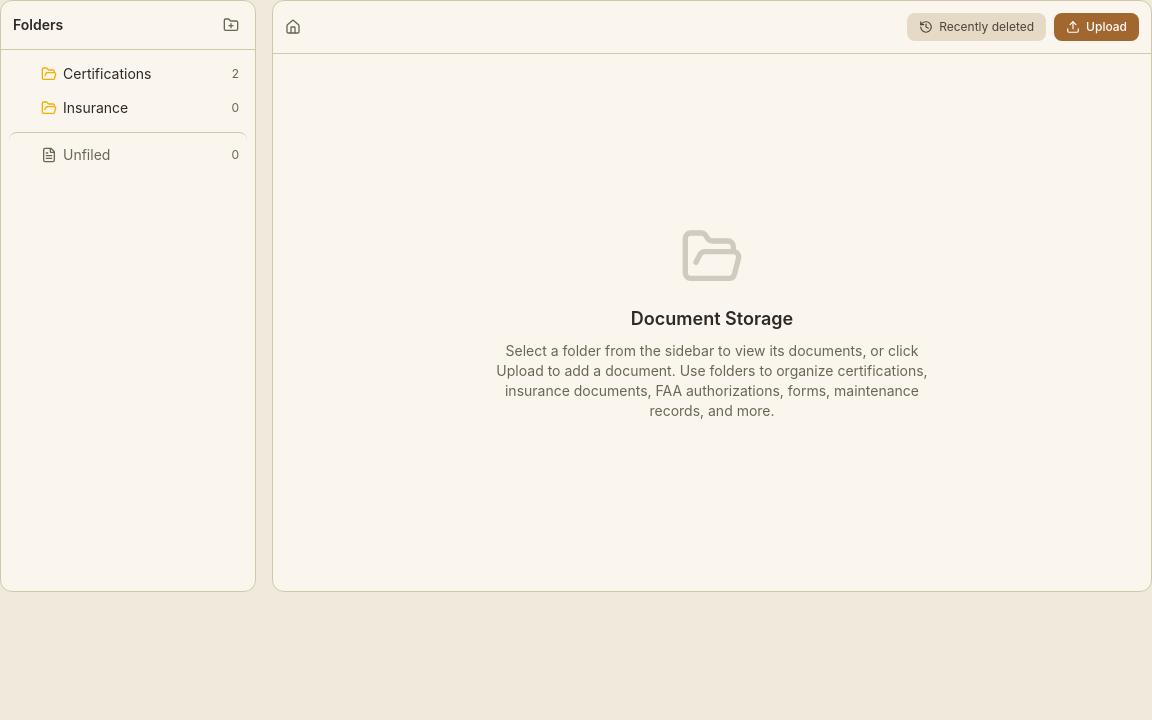
DocumentStoragePage › moves a document to Recently deleted from its row
Click the text "Certifications": (107, 74) [63,65,152,82]
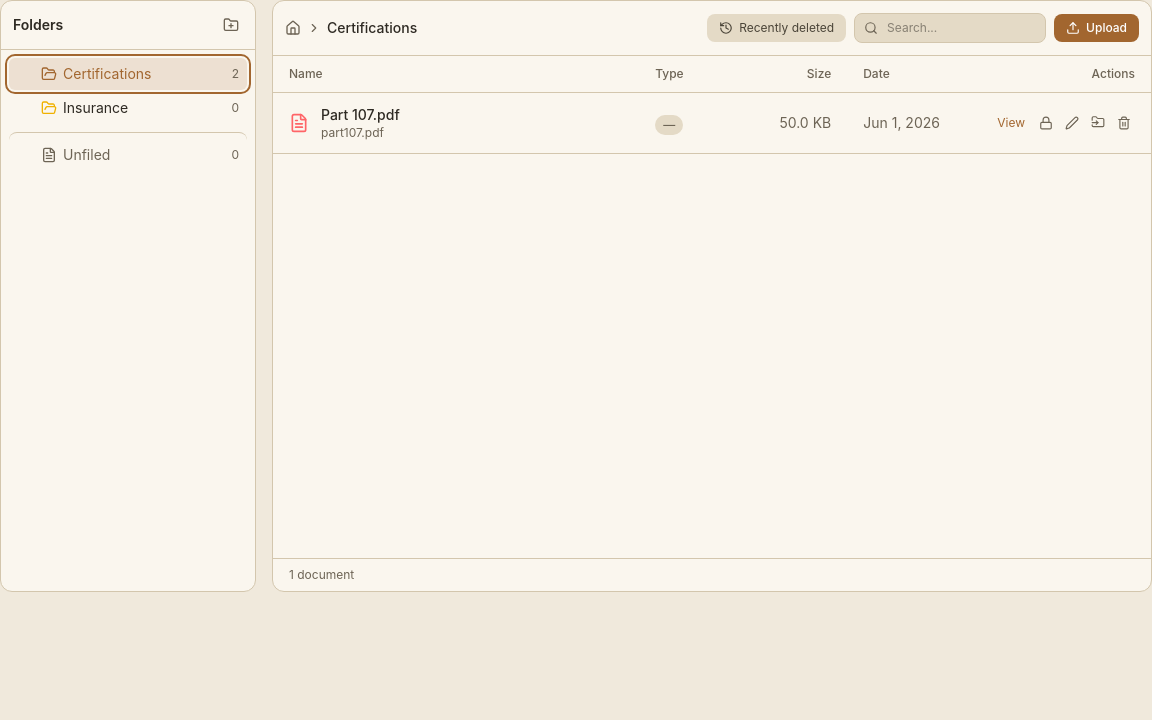
Expected: the text "Part 107.pdf" is shown, [321,105,400,125]
Click the button named "Delete": (1124, 123) [1113,112,1135,134]
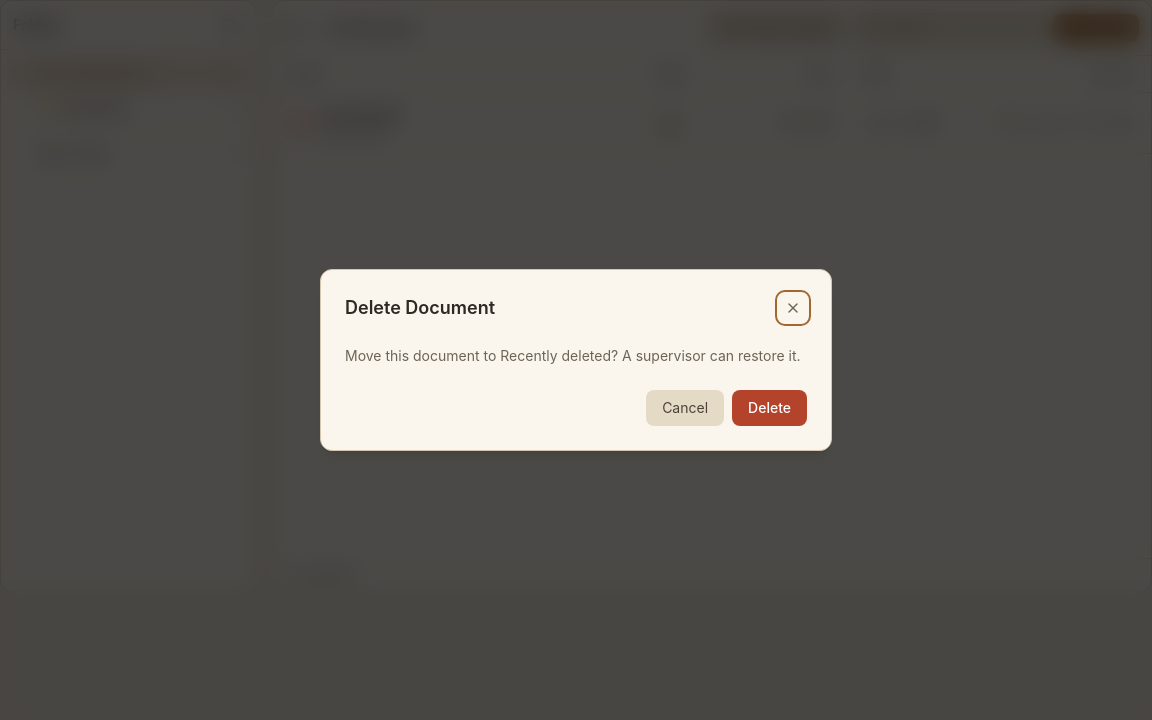
Click the button "Delete": (770, 408) [732,390,807,426]
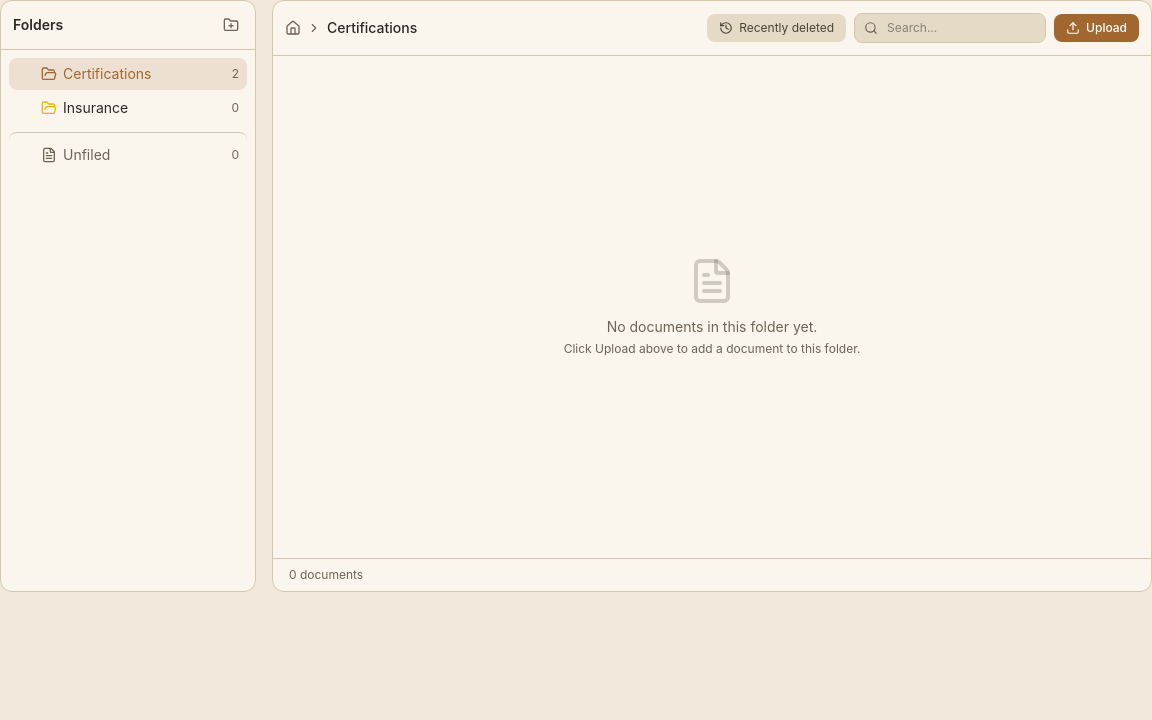
Expected: the text "Part 107.pdf" is gone
